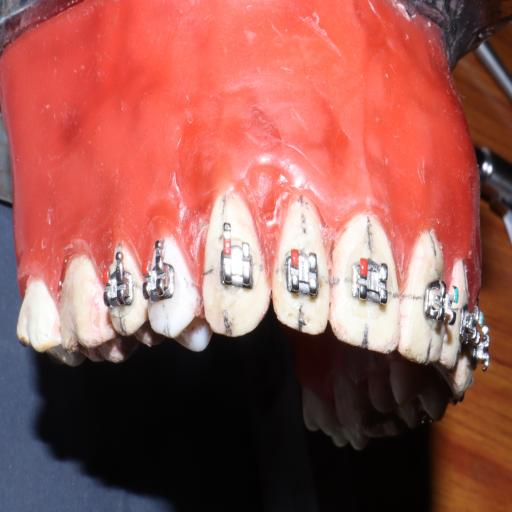incorrect_brace: (218, 238, 254, 294)
